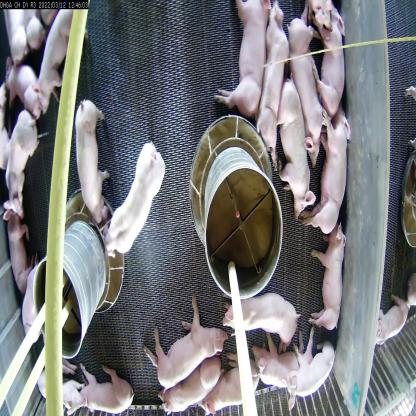Pig: (100, 140, 172, 255), (67, 92, 119, 227), (301, 108, 354, 237), (278, 7, 323, 156), (218, 0, 272, 122), (150, 298, 223, 388), (32, 0, 84, 115), (303, 0, 351, 119), (224, 278, 300, 353), (255, 0, 288, 152), (306, 218, 342, 332), (70, 359, 138, 415), (280, 96, 314, 205), (0, 93, 31, 210), (249, 330, 294, 403), (153, 365, 217, 415), (3, 208, 30, 302), (290, 345, 332, 402), (207, 362, 258, 408)
